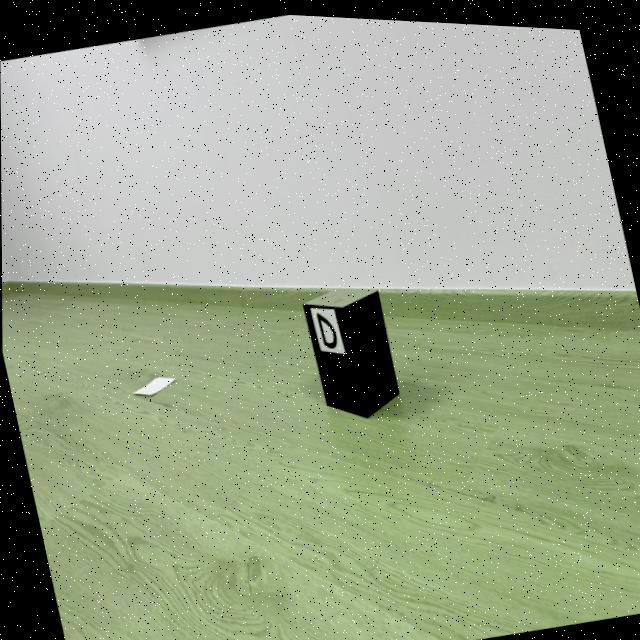D: (315, 308, 336, 345)
